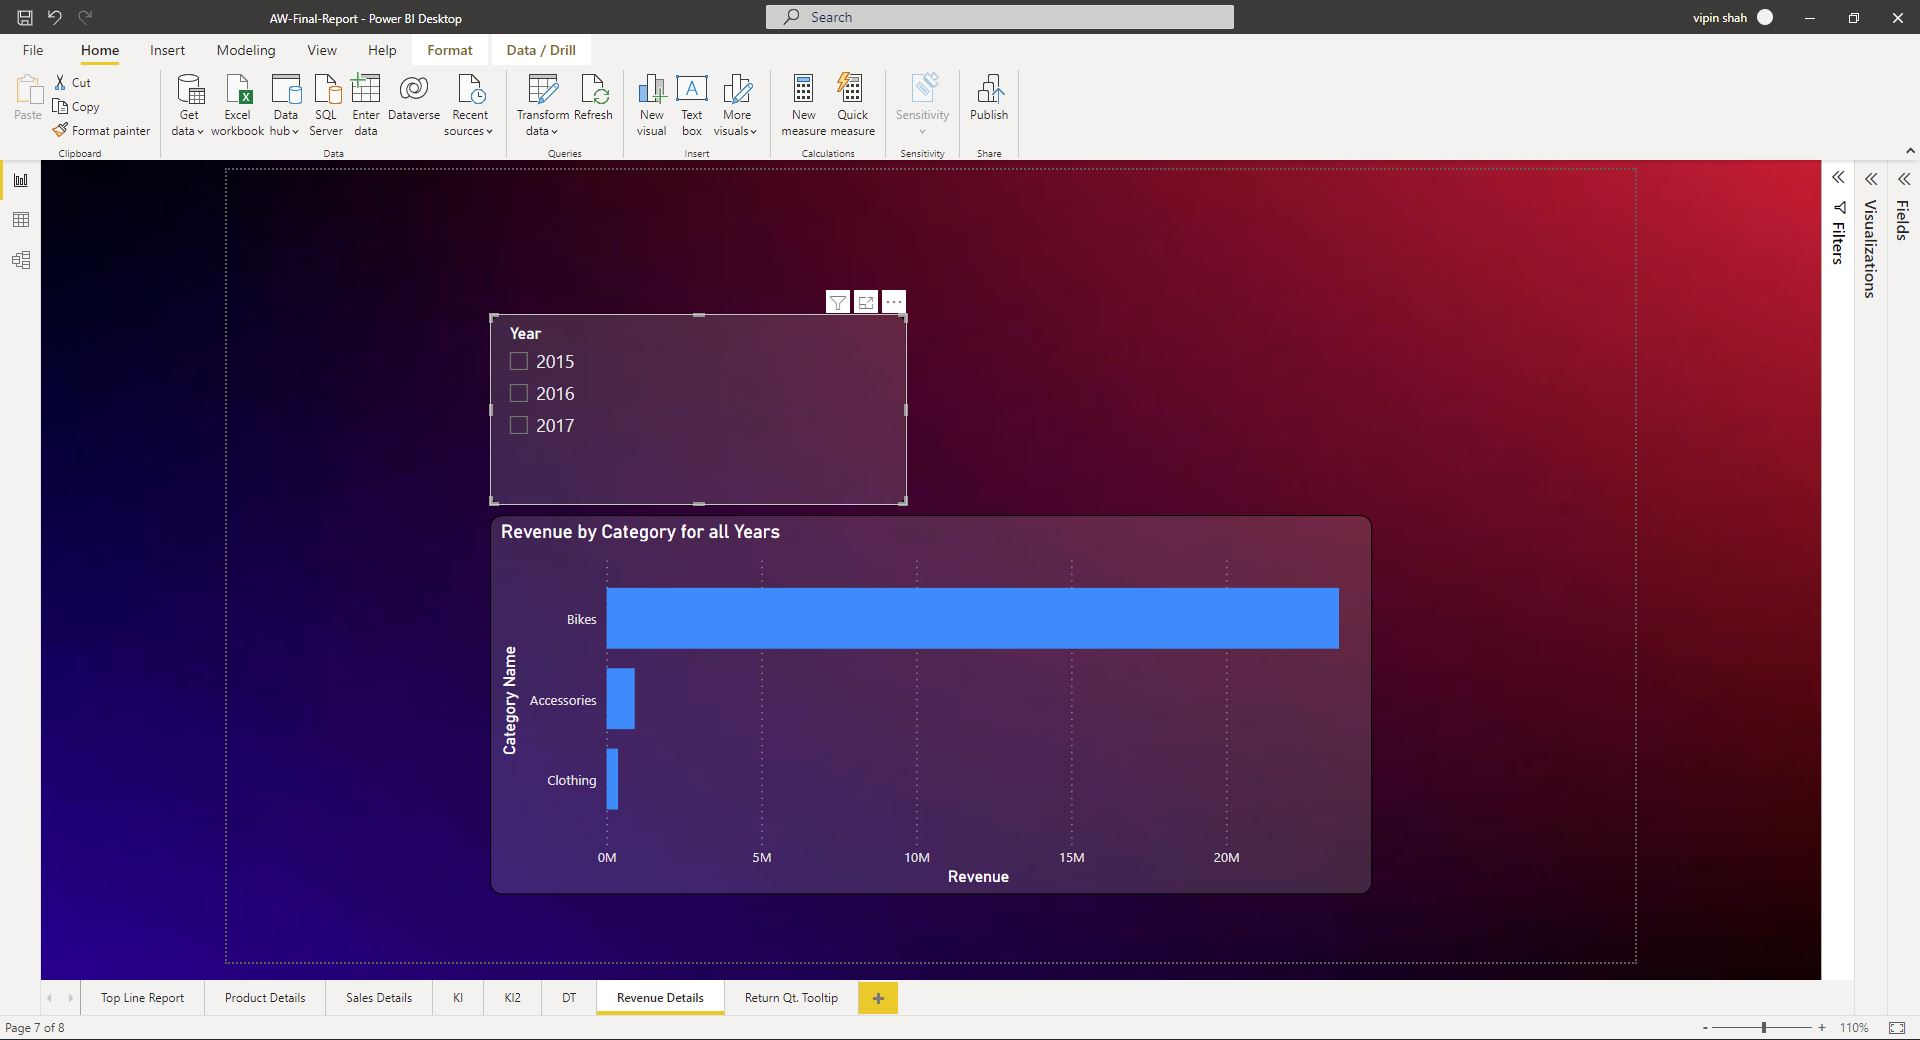

What the dashboard file says about the page in this screenshot:
{"tool":"powerbi","page":{"name":"Revenue Details","canvas":[1280,720],"ordinal":6},"visuals":[{"type":"barChart","fields":{"Category":["d-Product-Categories.Category Name"],"Y":["All Measures.Revenue"]},"box":[239.1,313.6,801.8,345.5],"z":0},{"type":"slicer","fields":{"Values":["d-Calendar.Year"]},"box":[239.4,131.2,316.6,172.9],"z":1000}]}

Visuals, with their boxes on the page's 1280x720 design canvas (x1, y1, x2, y2). These are canvas units, not pixel positions in the 1920x1040 screenshot, which may show the page scaled, cropped or inside an application window:
barChart - d-Product-Categories.Category Name x All Measures.Revenue: (left=239, top=314, right=1041, bottom=659)
slicer - d-Calendar.Year: (left=239, top=131, right=556, bottom=304)
